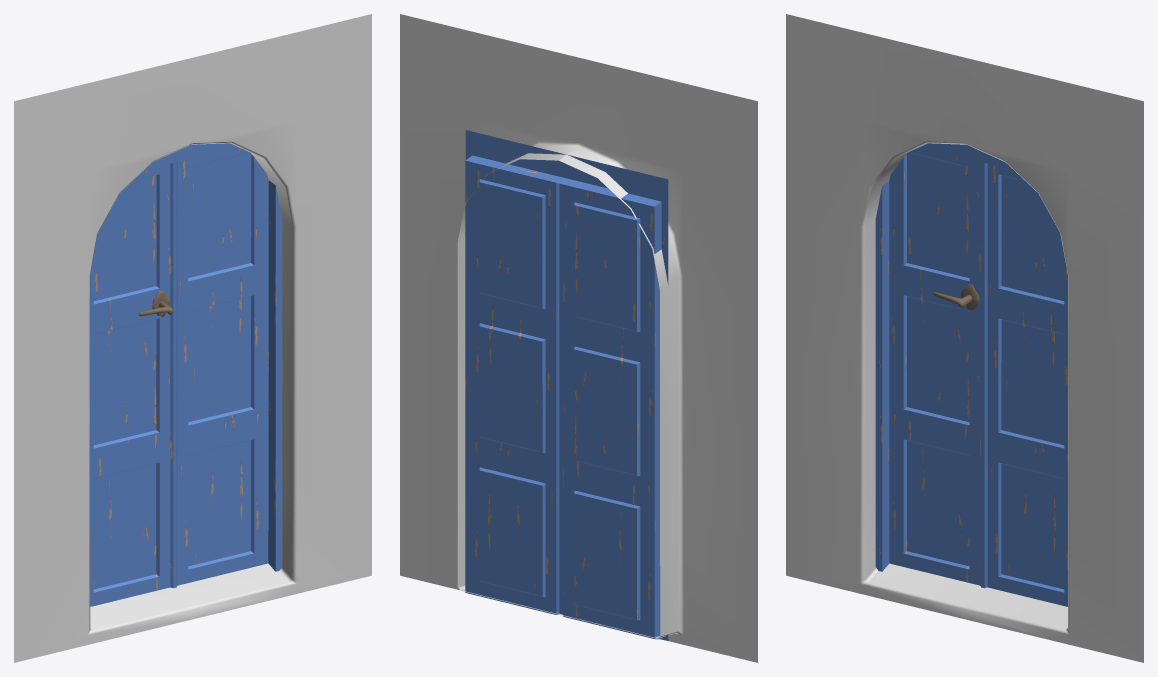
The model's file is WallRoundedDoor.fbx.
3 renders of one model, left to right at view 1: azimuth 30°, elevation 25°; view 2: azimuth 150°, elevation 25°; view 3: azimuth 330°, elevation 25°, orthographic.
Parts seen in each view (by area): view 1: WallRoundedDoor; view 2: WallRoundedDoor; view 3: WallRoundedDoor.
Boxes of the visible parts, bbox=[...] form: WallRoundedDoor: bbox=[14, 14, 371, 662]; WallRoundedDoor: bbox=[400, 14, 757, 662]; WallRoundedDoor: bbox=[786, 14, 1143, 662].
Size of the model in its own units: 200 by 300 by 19.92.
3 materials, 1 textured.
